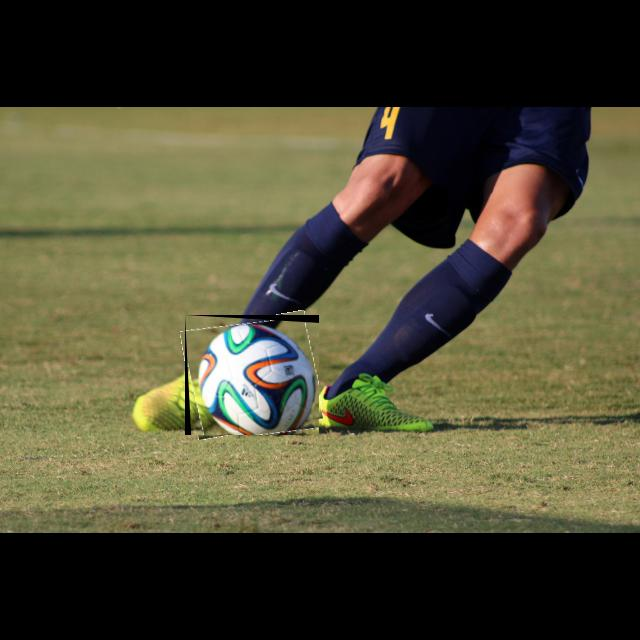Football: (185, 315, 319, 435)
